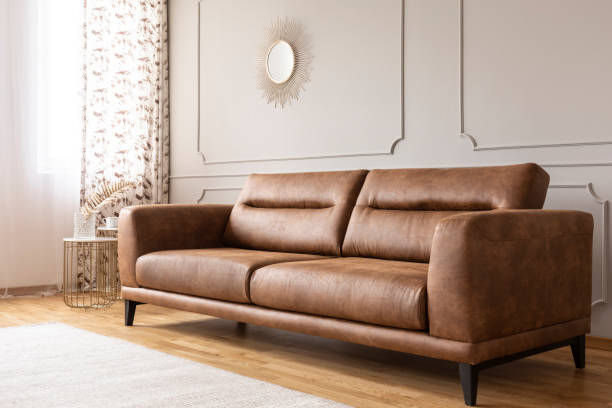couch: (88, 126, 593, 404)
